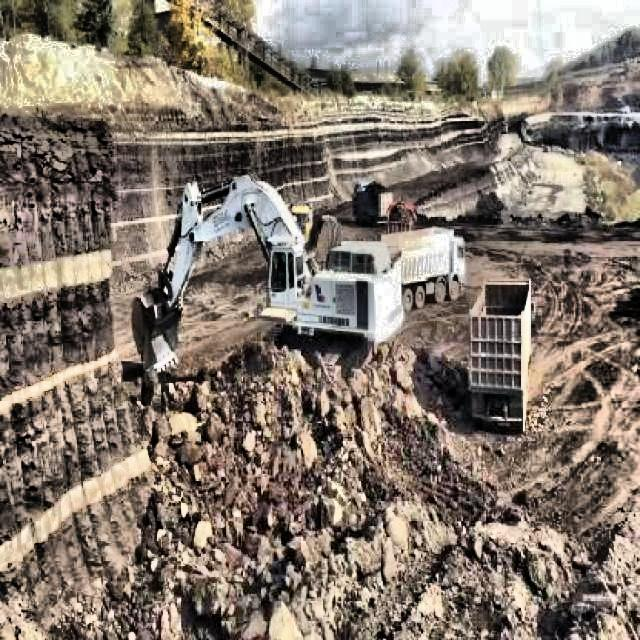dump_truck: (468, 282, 532, 432), (406, 228, 464, 308), (350, 180, 392, 225)
excavator: (128, 180, 402, 386)
